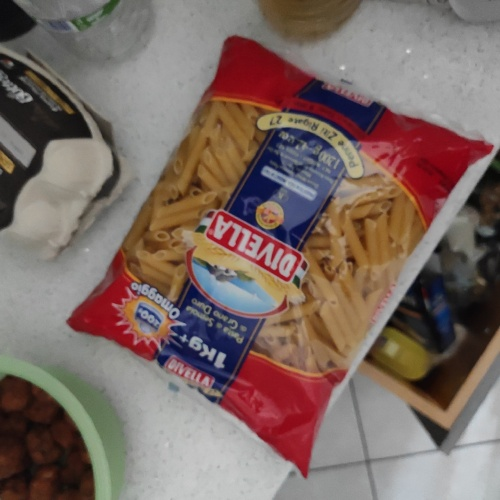pasta: (143, 51, 410, 437)
